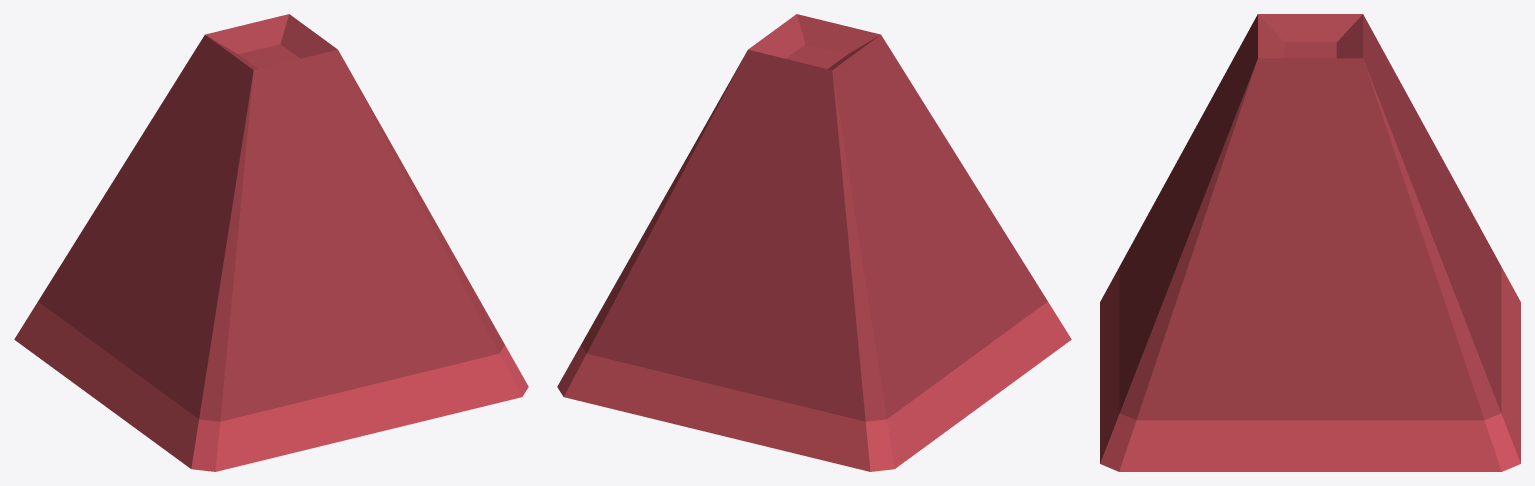
File: roofHighPoint.fbx
3 renders of one model, left to right at view 1: azimuth 30°, elevation 25°; view 2: azimuth 150°, elevation 25°; view 3: azimuth 270°, elevation 25°, orthographic. The views are drawn at different scales.
Visible parts, largest first — view 1: roofHighPoint; view 2: roofHighPoint; view 3: roofHighPoint.
Boxes of the visible parts, x1,y1,x2,y2 form: roofHighPoint: (14, 14, 528, 471); roofHighPoint: (557, 14, 1071, 471); roofHighPoint: (1100, 14, 1520, 471).
Size of the model in its own units: 11 by 10 by 11.
